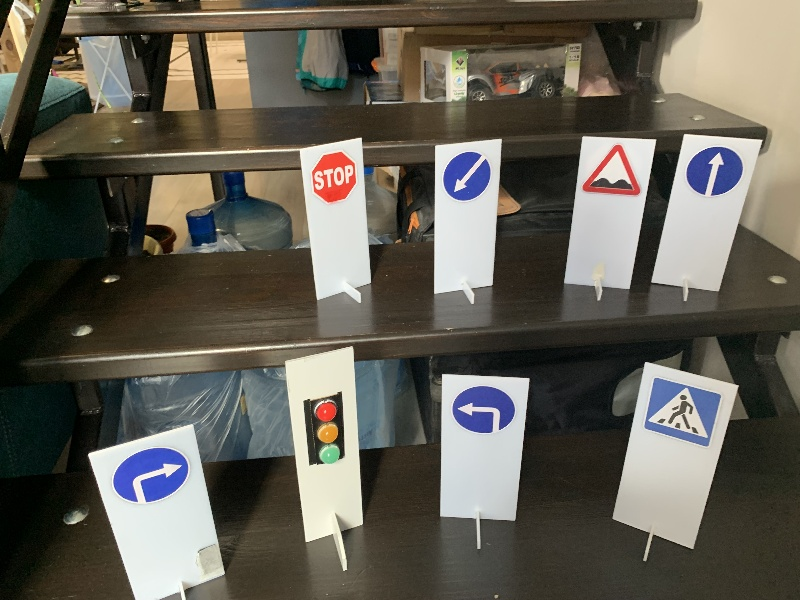Left: (451, 387, 515, 434)
Nerov: (584, 142, 641, 200)
Right: (113, 448, 190, 501)
Stop: (309, 153, 358, 203)
forw: (687, 147, 745, 197)
pesh: (644, 374, 720, 447)
prep: (443, 151, 489, 201)
